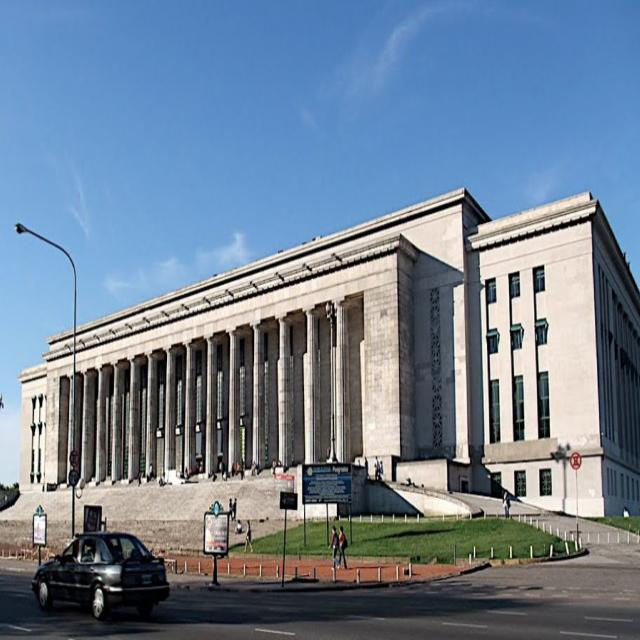car: (31, 528, 171, 622)
